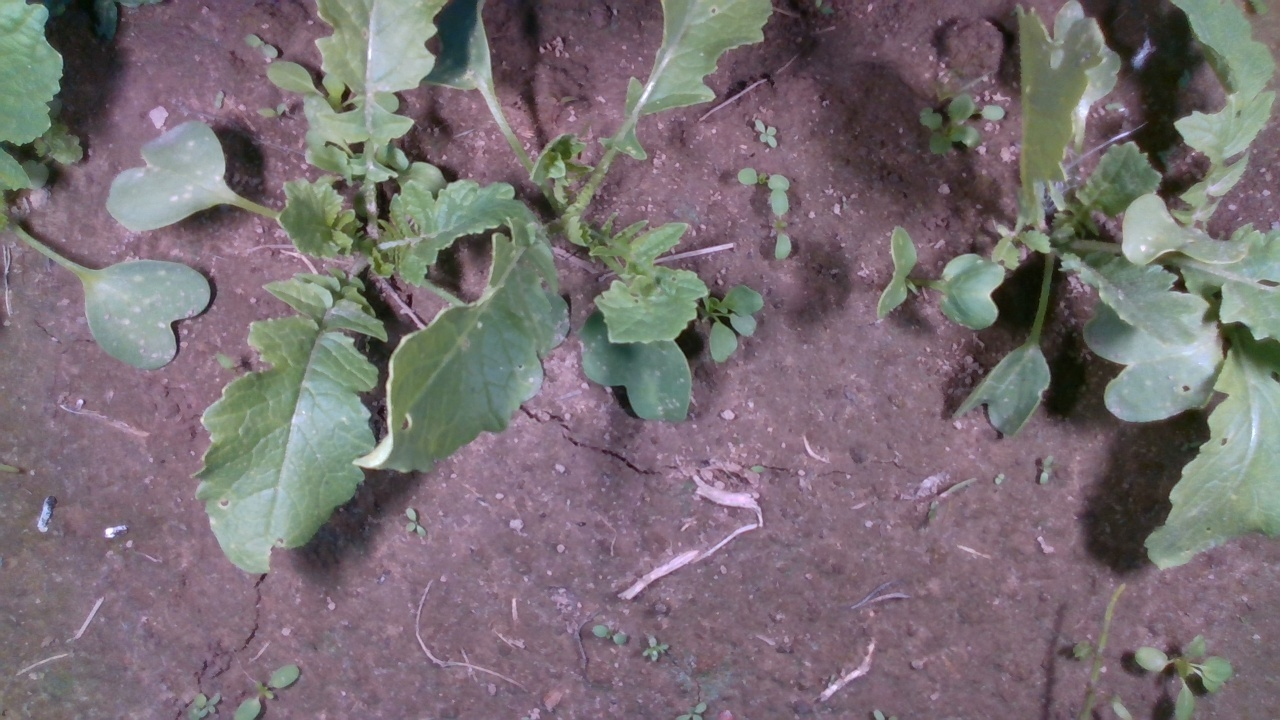weed: (242, 31, 279, 58), (641, 634, 671, 664), (403, 505, 430, 538), (753, 118, 779, 150), (591, 624, 630, 645), (1037, 453, 1055, 486), (213, 88, 226, 109), (993, 471, 1005, 486)
